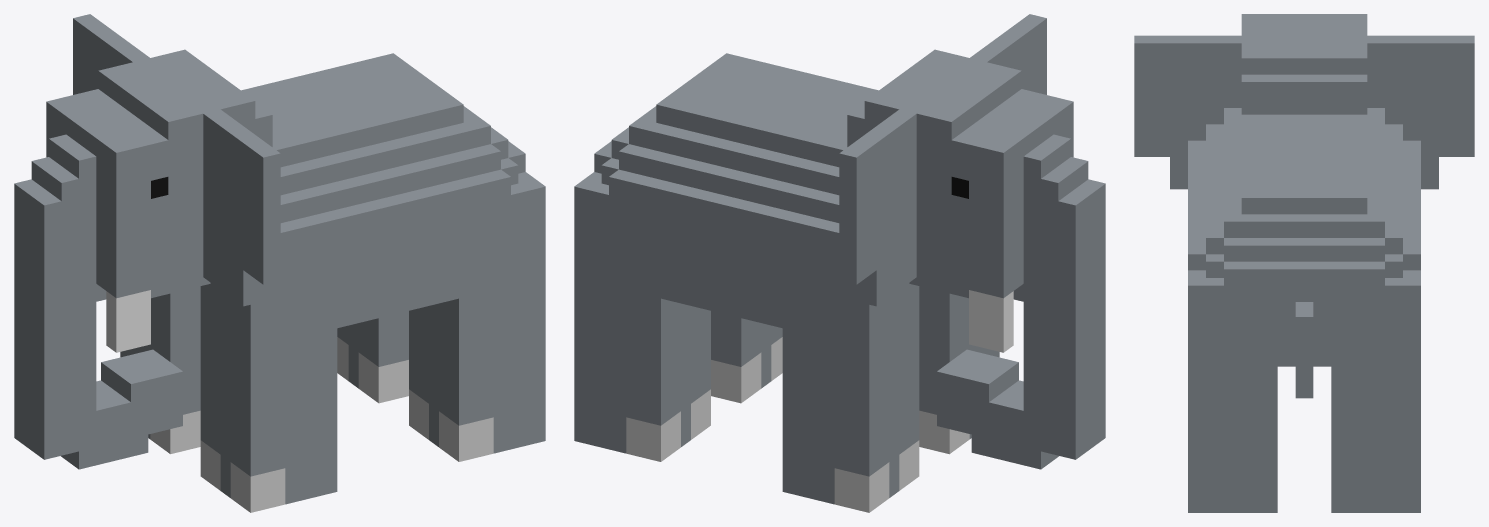
File: elephant.glb
The picture shows the model from 3 angles, left to right: view 1: azimuth 30°, elevation 25°; view 2: azimuth 150°, elevation 25°; view 3: azimuth 270°, elevation 25°; orthographic projection. The views are drawn at different scales.
Visible parts, largest first — view 1: Elephant; view 2: Elephant; view 3: Elephant.
Part boxes in pixels (bbox=[...]): Elephant: bbox=[14, 14, 545, 512]; Elephant: bbox=[574, 14, 1105, 512]; Elephant: bbox=[1134, 14, 1474, 512].
Bounding box in the file's own units: 28 × 21 × 19.
Materials: 1 (1 with a texture image).
